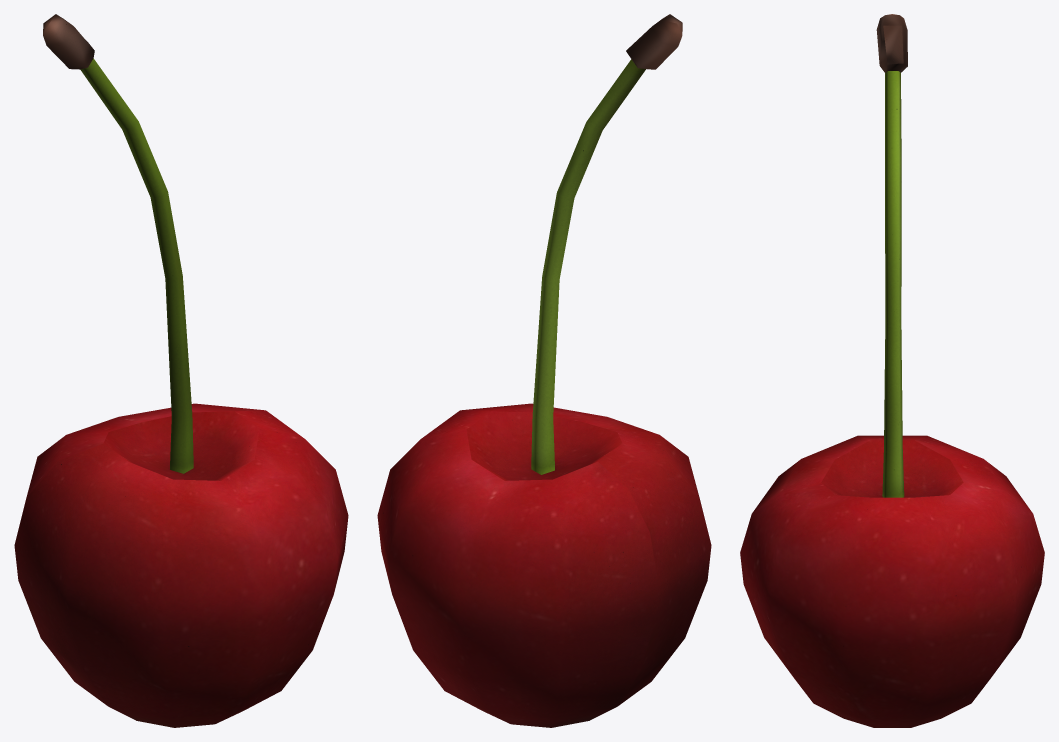
Rendered from Cherry.fbx.
3 renders of one model, left to right at view 1: azimuth 30°, elevation 25°; view 2: azimuth 150°, elevation 25°; view 3: azimuth 270°, elevation 25°, orthographic. The views are drawn at different scales.
Parts seen in each view (by area): view 1: Cherry; view 2: Cherry; view 3: Cherry.
Part boxes in pixels (x1=…): Cherry: x1=14, y1=14, x2=348, y2=727; Cherry: x1=377, y1=14, x2=711, y2=727; Cherry: x1=740, y1=14, x2=1044, y2=727.
Bounding box in the file's own units: 2.68 × 6.58 × 2.82.
Materials: 1 (1 with a texture image).
